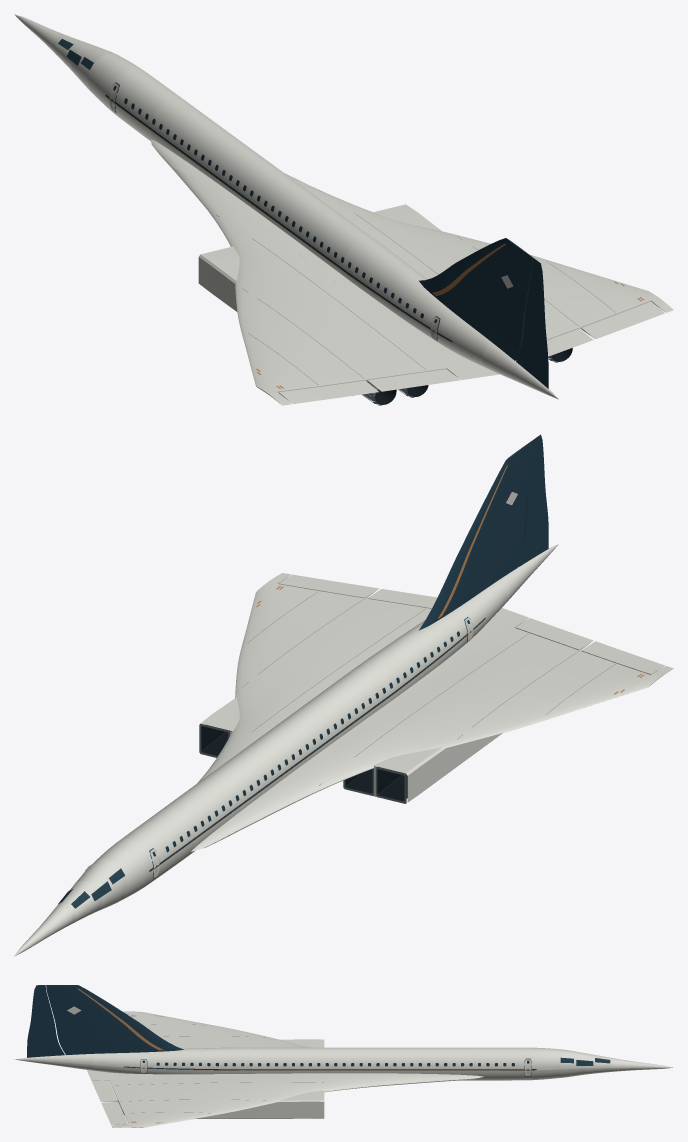
File: player-concorde-hero-v1.glb
3 views of the same model, one above another, from view 1: azimuth 30°, elevation 25°; view 2: azimuth 150°, elevation 25°; view 3: azimuth 270°, elevation 25° (orthographic). The views are drawn at different scales.
Parts seen in each view (by area): view 1: hull, trim, rudder-skin, aileron-right-skin, aileron-left-skin, elevator-left-skin, accent, metal, elevator-right-skin, dark, cabin; view 2: hull, trim, rudder-skin, dark, metal, aileron-right-skin, aileron-left-skin, elevator-left-skin, accent, elevator-right-skin; view 3: hull, trim, rudder-skin, accent, aileron-right-skin, elevator-right-skin, cabin.
Boxes of the visible parts, x1,y1,x2,y2 form: hull: (14,14,673,405); trim: (66,50,532,360); rudder-skin: (516,258,548,388); aileron-right-skin: (581,301,664,339); aileron-left-skin: (278,380,378,403); elevator-left-skin: (367,369,460,391); accent: (105,96,644,388); metal: (53,37,615,405); elevator-right-skin: (547,328,593,356); dark: (368,348,572,404); cabin: (113,85,437,323); hull: (14,492,673,956); trim: (82,440,533,900); rudder-skin: (518,434,548,566); dark: (201,724,407,801); metal: (67,586,615,907); aileron-right-skin: (278,574,378,598); aileron-left-skin: (581,641,664,674); elevator-left-skin: (515,618,593,650); accent: (150,465,644,871); elevator-right-skin: (367,589,437,608); hull: (14,1006,672,1127); trim: (46,985,593,1076); rudder-skin: (27,985,64,1057); accent: (77,988,534,1123); aileron-right-skin: (101,1102,127,1124); elevator-right-skin: (91,1080,117,1101); cabin: (142,1060,529,1065).
Size of the model in its own units: 25.56 by 10.72 by 61.66.
